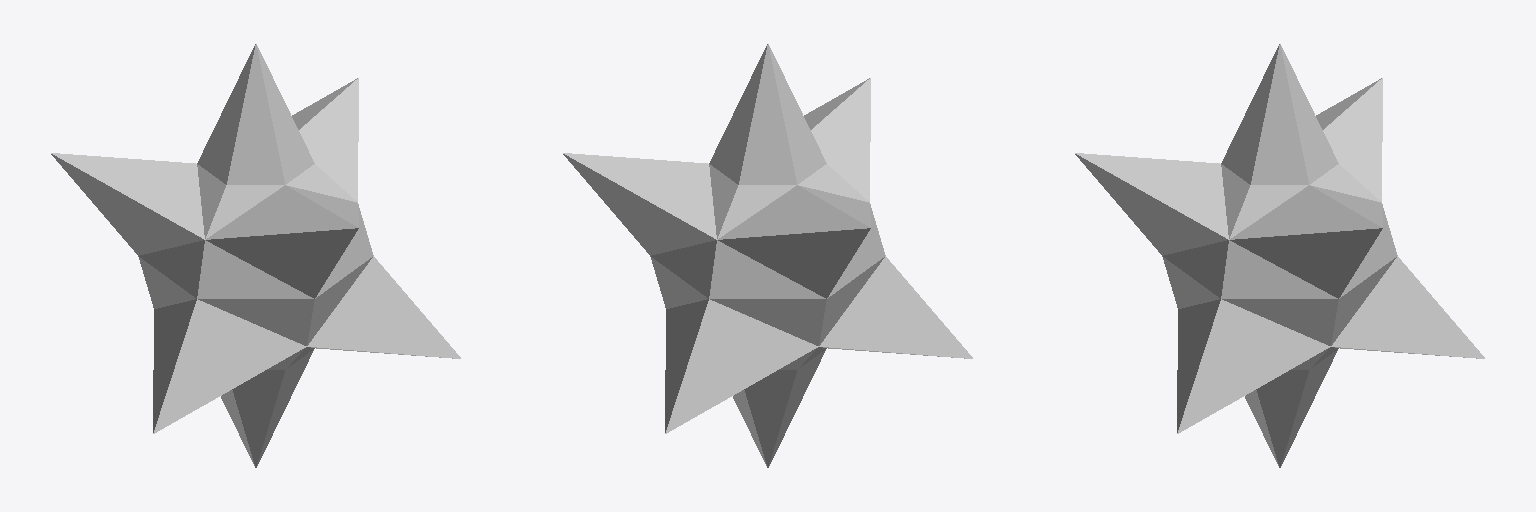
Rendered from enemy.obj.
3 renders of one model, left to right at view 1: azimuth 30°, elevation 25°; view 2: azimuth 150°, elevation 25°; view 3: azimuth 270°, elevation 25°, orthographic.
Parts seen in each view (by area): view 1: Sphere_球; view 2: Sphere_球; view 3: Sphere_球.
Part boxes in pixels (x1,y1,x2,y2): Sphere_球: (51, 44, 460, 467); Sphere_球: (563, 44, 972, 467); Sphere_球: (1075, 44, 1484, 467).
Size of the model in its own units: 1.82 by 2.4 by 2.1.